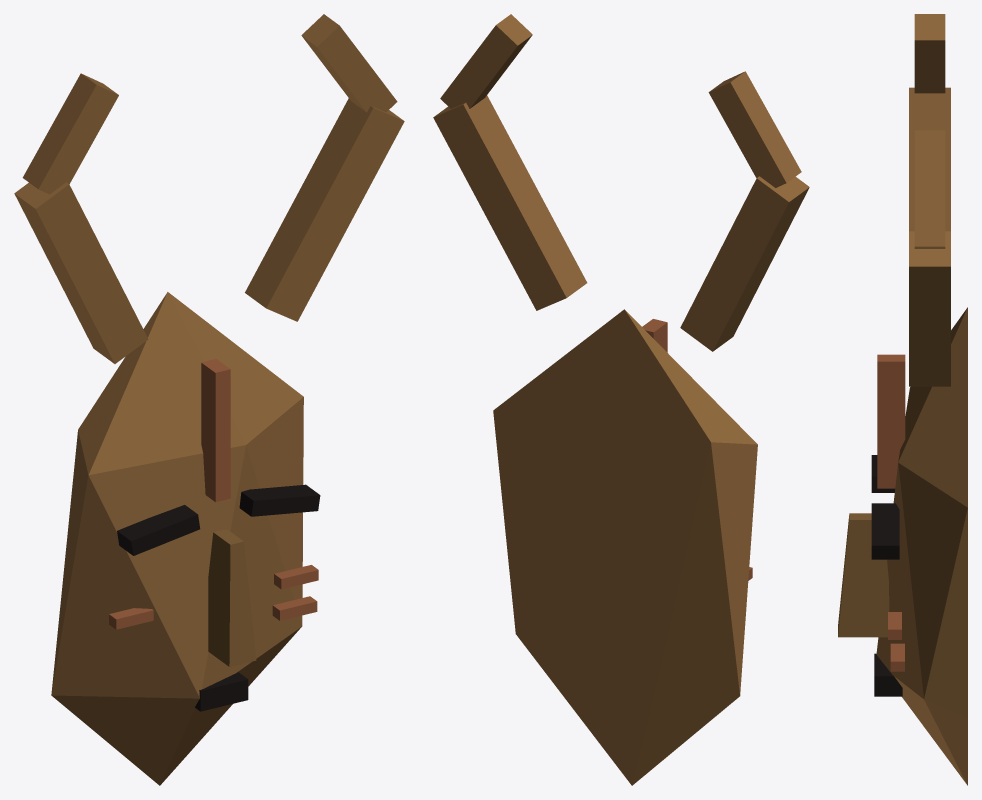
Rendered from wall-mask-43.glb.
3 renders of one model, left to right at view 1: azimuth 30°, elevation 25°; view 2: azimuth 150°, elevation 25°; view 3: azimuth 270°, elevation 25°, orthographic. The views are drawn at different scales.
Visible parts, largest first — view 1: wall_mask_43; view 2: wall_mask_43; view 3: wall_mask_43.
Boxes of the visible parts, box(x1,y1,x2,y2) form: wall_mask_43: box(14, 14, 404, 785); wall_mask_43: box(433, 14, 809, 785); wall_mask_43: box(838, 14, 967, 785).
Bounding box in the file's own units: 0.2974 × 0.5723 × 0.0924.
